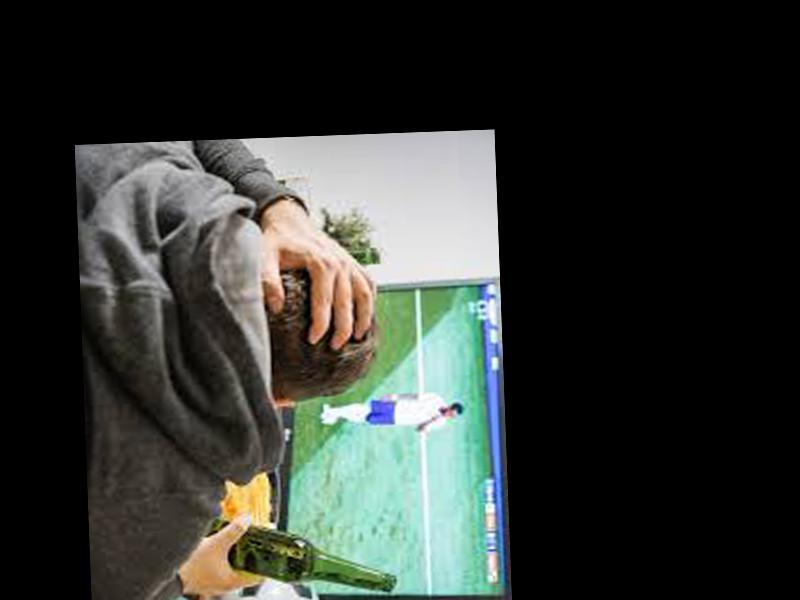Beer: (201, 518, 396, 599)
